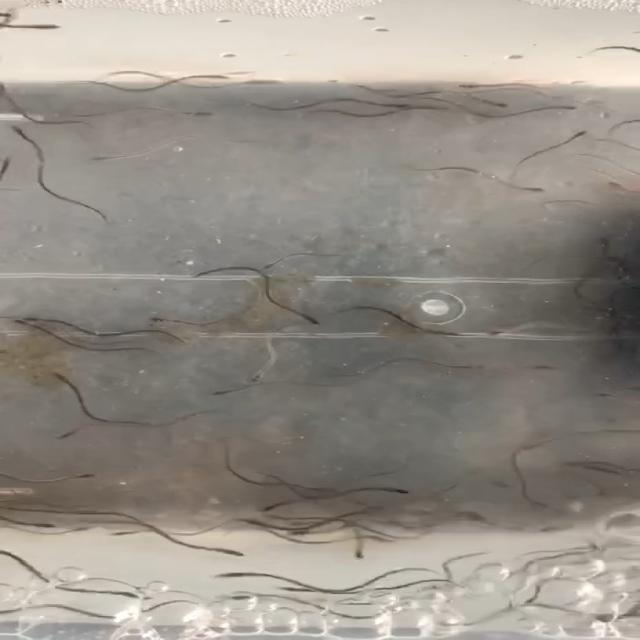active_glass_eel: (213, 564, 267, 582), (536, 98, 584, 116), (447, 505, 487, 526), (237, 73, 293, 87), (219, 589, 264, 606), (8, 20, 66, 33), (462, 96, 512, 111), (180, 108, 227, 123), (63, 469, 104, 486), (278, 581, 326, 595), (211, 544, 252, 560), (0, 121, 31, 142), (111, 586, 151, 602), (52, 425, 87, 443), (49, 369, 76, 392), (204, 387, 248, 401), (23, 518, 61, 534), (193, 72, 238, 85), (102, 527, 140, 542), (254, 258, 288, 274), (4, 314, 36, 331), (238, 368, 272, 384), (252, 500, 286, 516), (525, 360, 558, 376), (349, 539, 371, 563), (12, 312, 52, 325), (284, 525, 324, 538), (558, 128, 595, 142), (518, 182, 549, 197), (454, 80, 496, 91), (87, 150, 120, 164), (296, 314, 329, 328), (591, 232, 613, 252), (589, 388, 624, 400), (142, 314, 180, 325), (382, 485, 414, 498), (384, 99, 416, 111), (476, 325, 508, 337), (462, 362, 493, 374)
